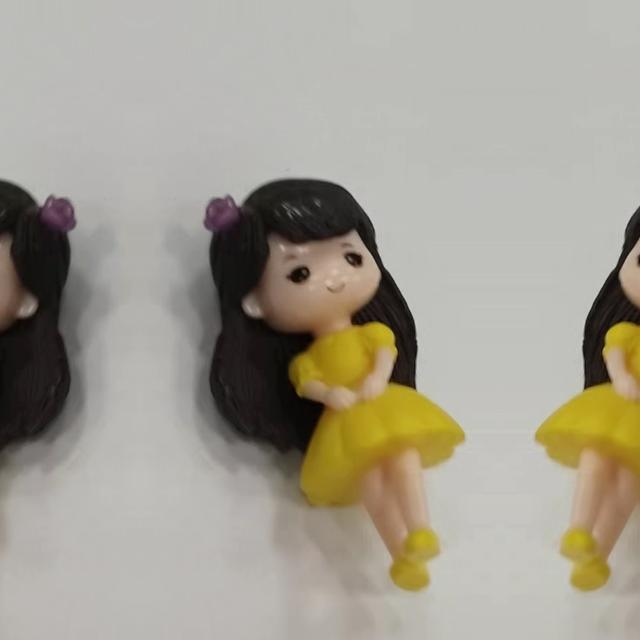woman dress: (288, 324, 472, 580), (528, 324, 640, 579)
woman head: (200, 176, 410, 338), (0, 176, 79, 338), (590, 176, 640, 338)
